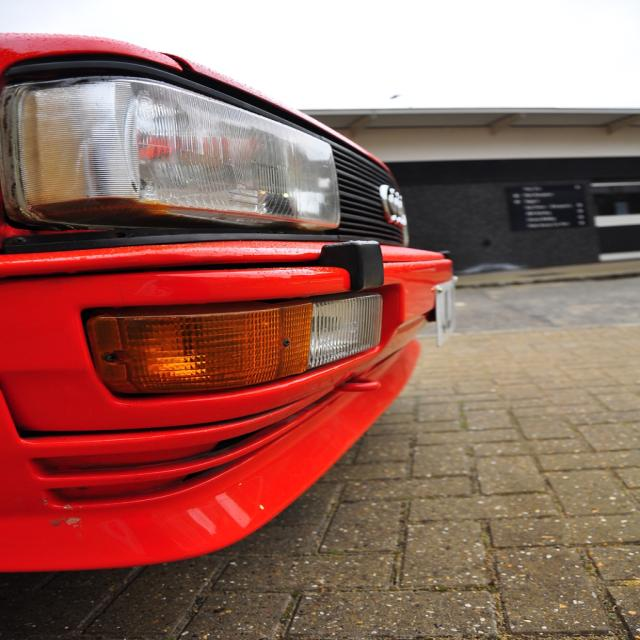car: (0, 108, 470, 609)
